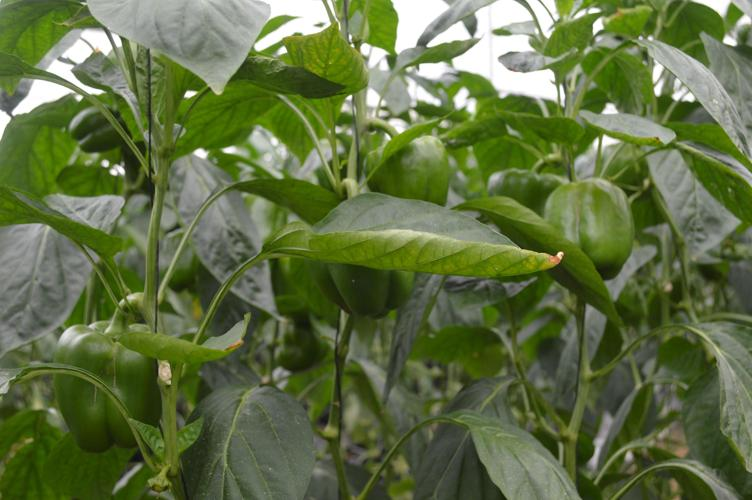BellPepper: (57, 324, 161, 448), (538, 178, 634, 277), (359, 134, 448, 204), (311, 263, 416, 321), (482, 169, 565, 217), (66, 107, 126, 152)
